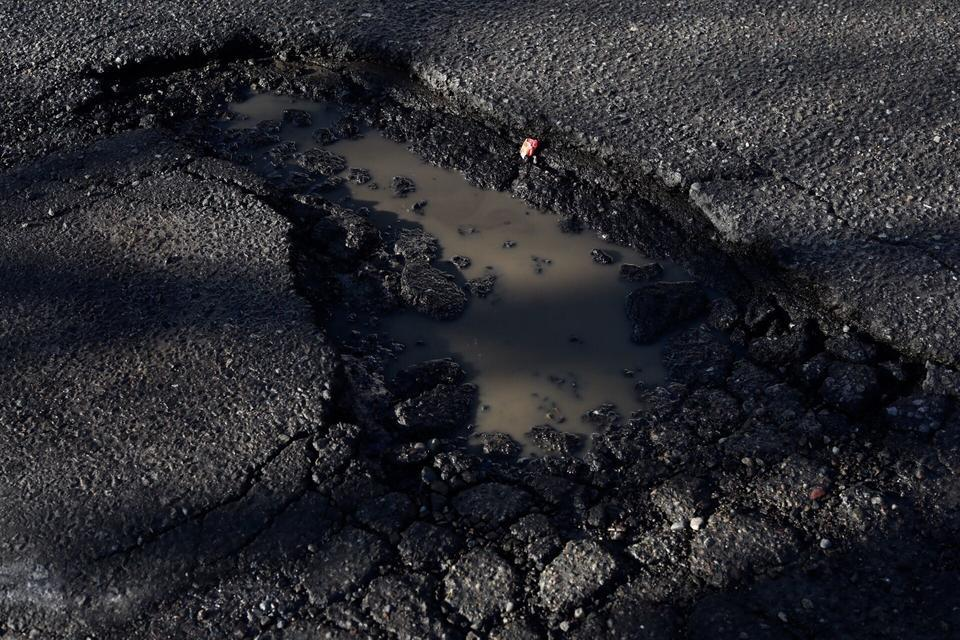Pothole: (0, 1, 911, 594)
